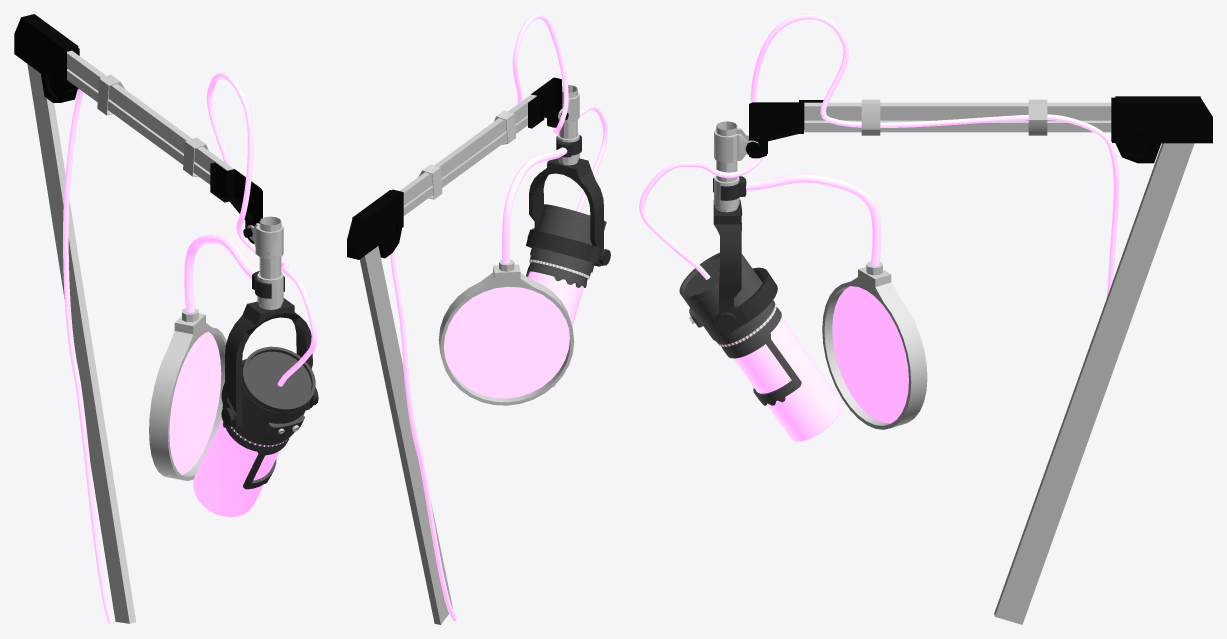
File: pod_mic.glb
The picture shows the model from 3 angles, left to right: view 1: azimuth 30°, elevation 25°; view 2: azimuth 150°, elevation 25°; view 3: azimuth 270°, elevation 25°; orthographic projection. The views are drawn at different scales.
Visible parts, largest first — view 1: BézierCurve; view 2: BézierCurve; view 3: BézierCurve.
Part boxes in pixels (x1=…): BézierCurve: x1=14, y1=14, x2=318, y2=624; BézierCurve: x1=347, y1=14, x2=610, y2=624; BézierCurve: x1=639, y1=14, x2=1212, y2=624.
Bounding box in the file's own units: 7.25 × 36.09 × 30.81.
